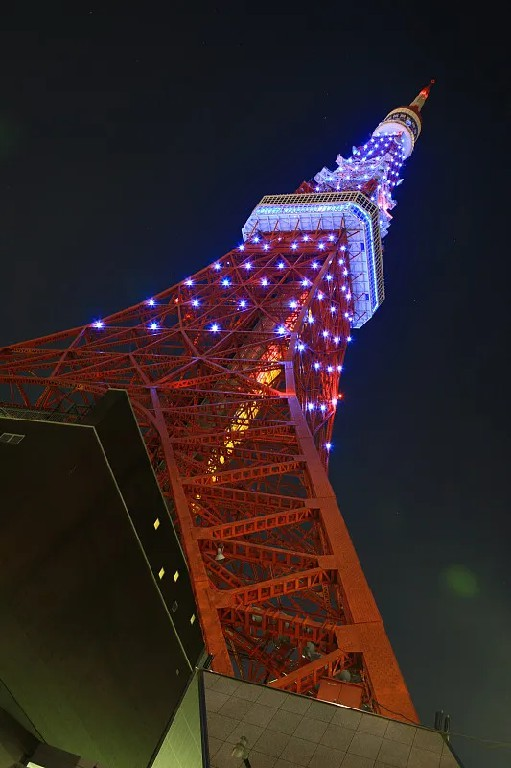Tokyo: (1, 70, 442, 728)
